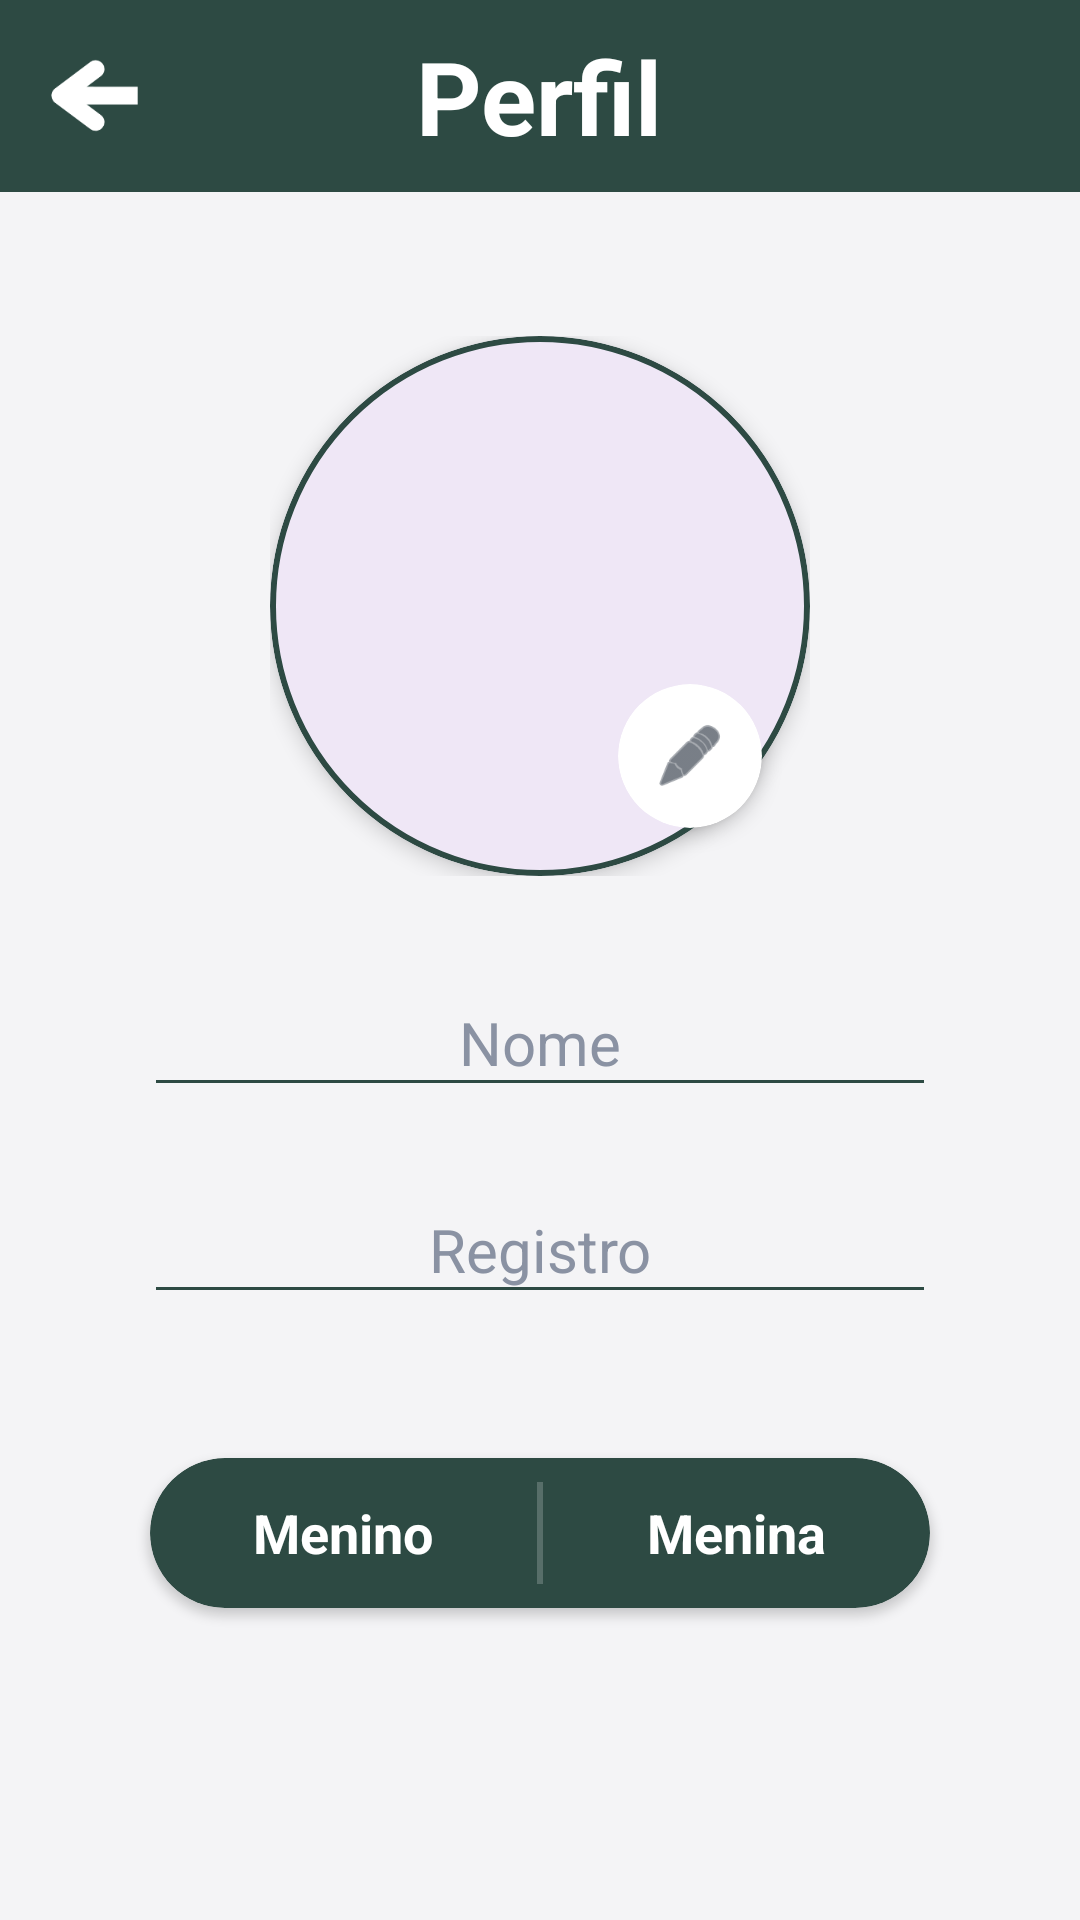

Screen size 1080 × 1920. Icon name, then its center in pixels as (x=x, y=y):
edit: (x=689, y=755)
Voltar: (x=94, y=95)
